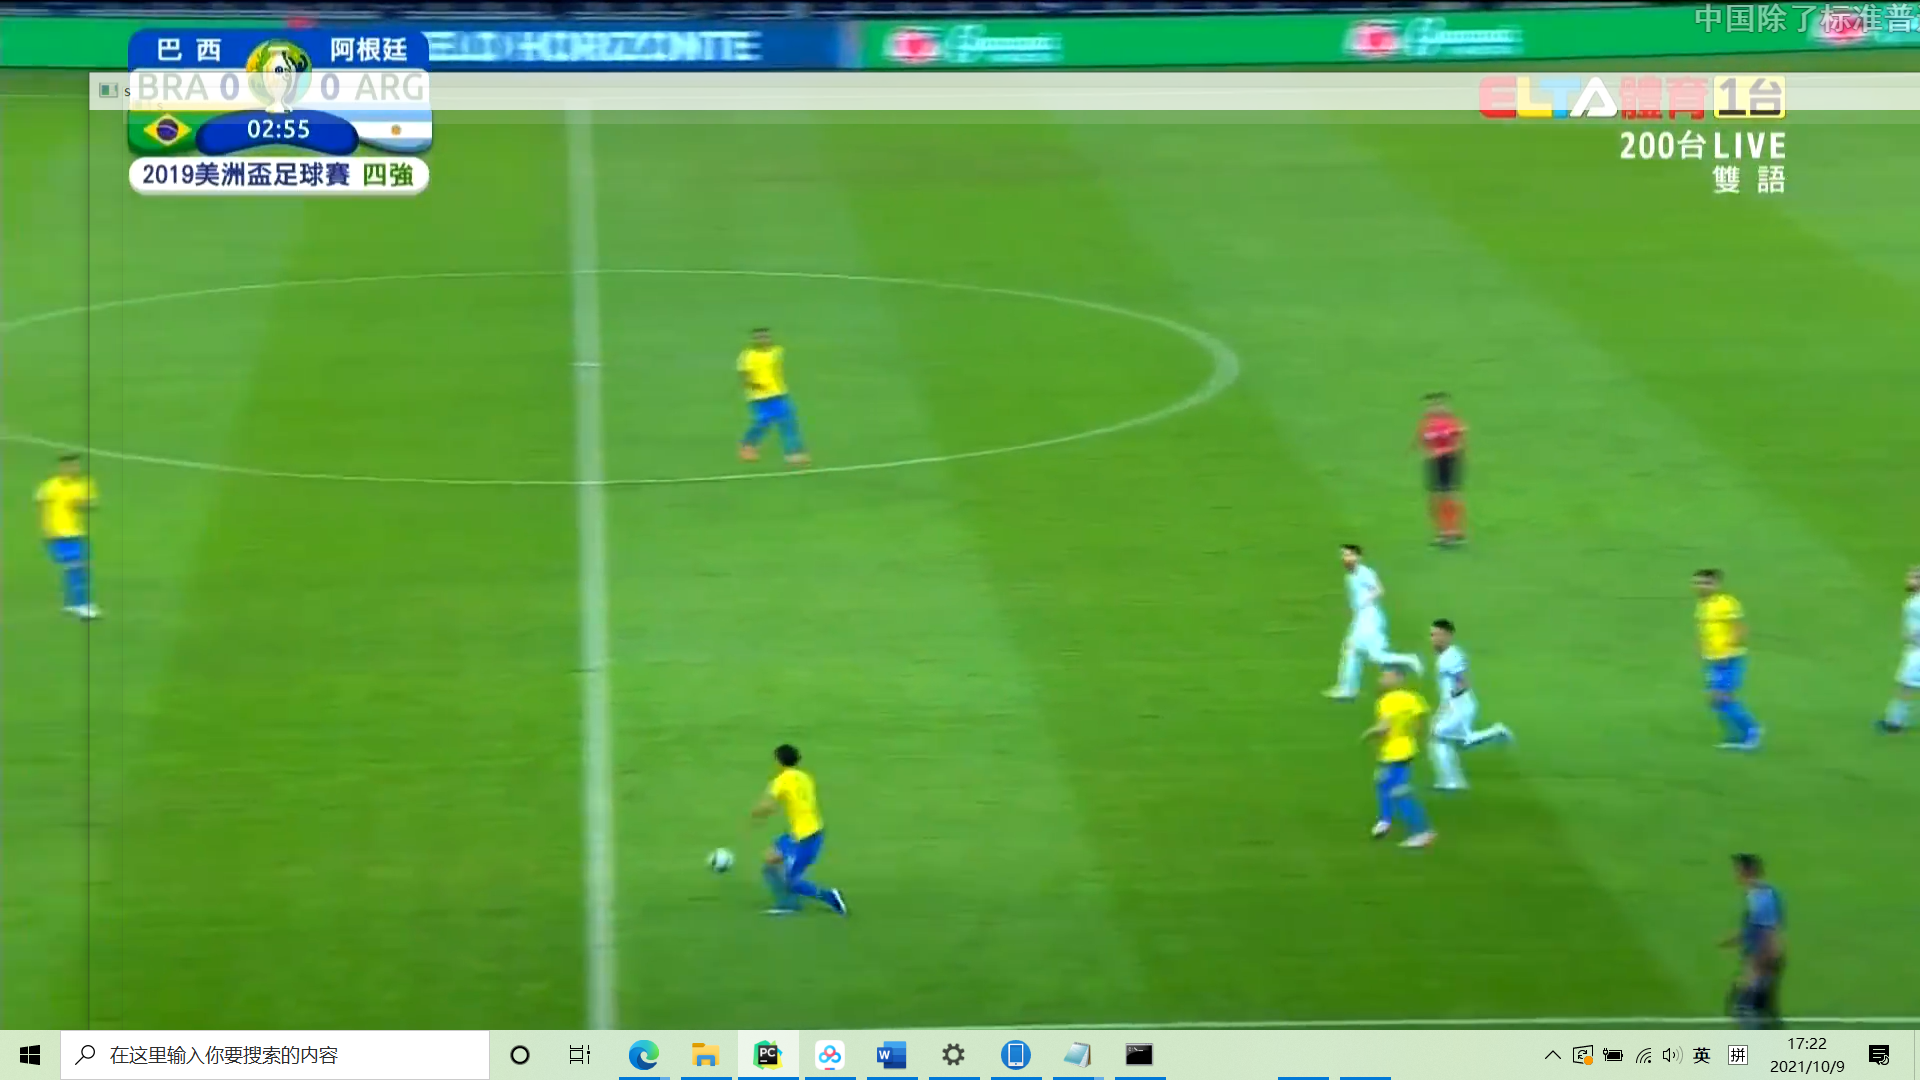ft: (705, 847, 736, 876)
